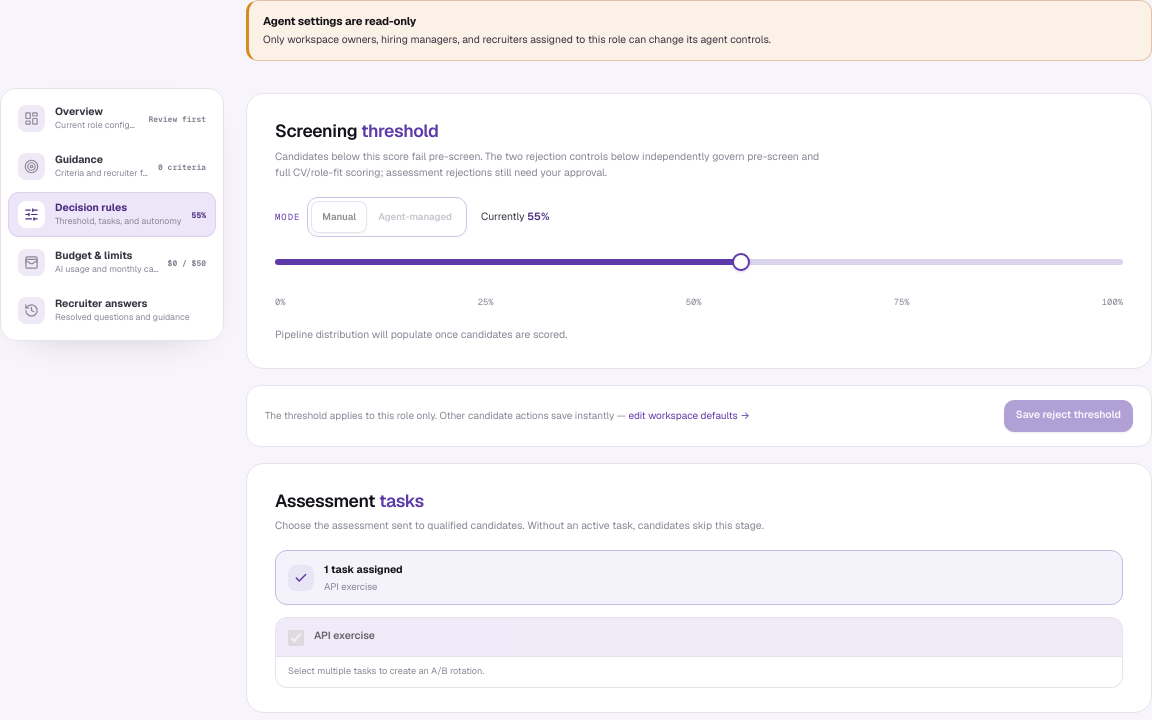
Test: RoleAgentSettingsTab budget validation › renders agent configuration read-only without hiding the saved policy
Expected: the text "Agent settings are read-only" is shown, [263,14,416,28]
Expected: the text "Only workspace owners, hiring managers, and recruiters assigned to this role can change its agent controls." is shown, [263,33,771,46]
What coordinates should you click on to do the following:
click the link "Budget & limits AI usage and monthly cap $0 / $50"
I would click on:
 (112, 262)
Its box is [8,240,216,285].
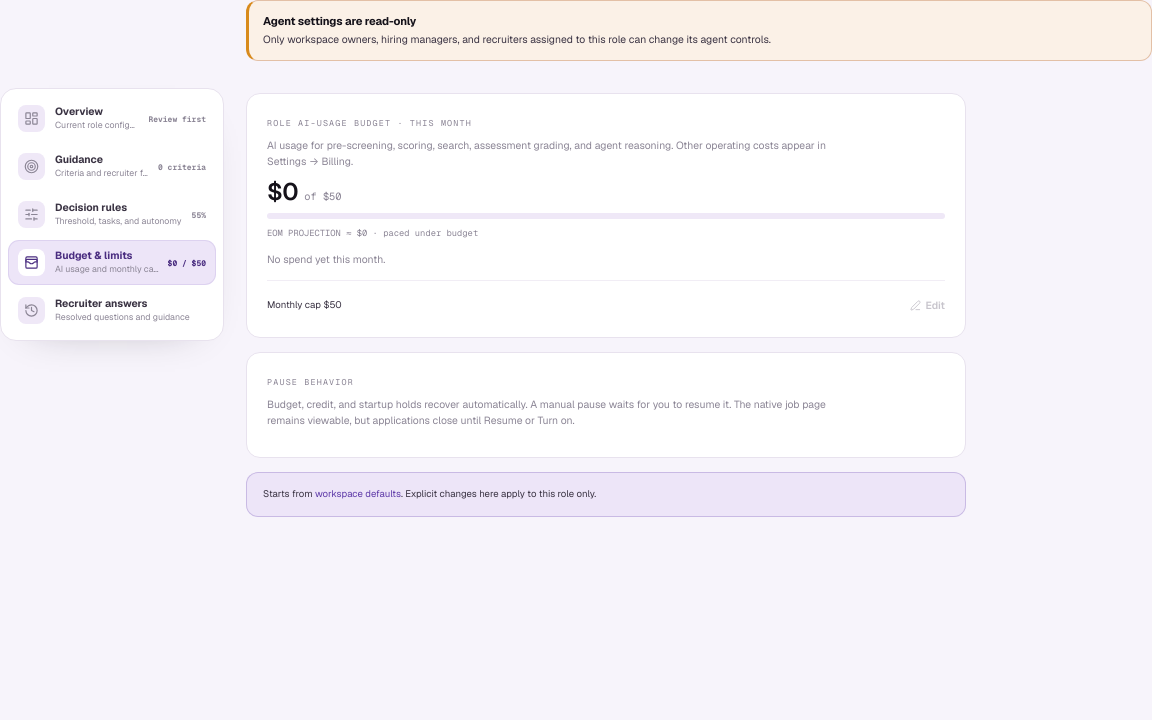
Now the button "Edit" is disabled, box [910,291,945,319]
